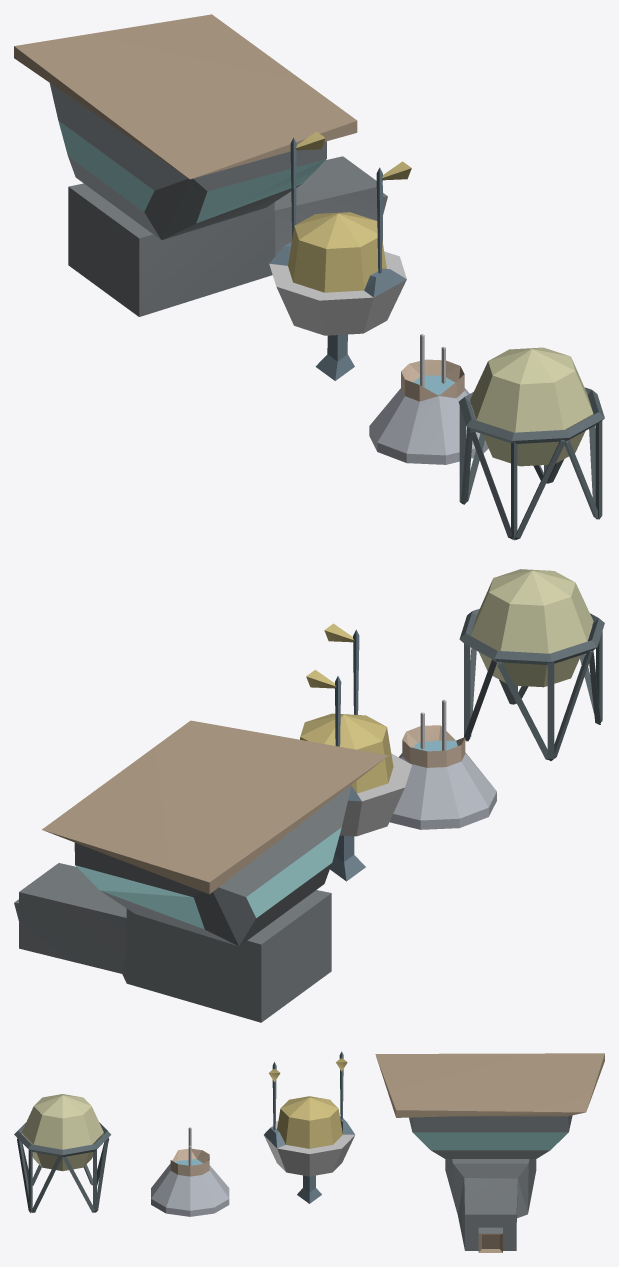
The model's file is station_part.fbx.
3 renders of one model, top to bottom at view 1: azimuth 30°, elevation 25°; view 2: azimuth 150°, elevation 25°; view 3: azimuth 270°, elevation 25°, orthographic. The views are drawn at different scales.
Visible parts, largest first — view 1: station_part_one, station_part_three, station_part_four, station_part_two, station_part_four1, station_part_three2, station_part_three1, plank12, plank5, plank9; view 2: station_part_one, station_part_four, station_part_two, station_part_three, station_part_four1, station_part_three2, plank8, station_part_three1, plank4, plank7; view 3: station_part_one, station_part_three, station_part_four, station_part_two, station_part_four1, plank12, station_part_three1, plank1, station_part_three2, plank6, plank11, plank2.
Part boxes in pixels (left/top/right/bottom): station_part_one: left=14, top=14, right=387, bottom=316; station_part_three: left=269, top=212, right=406, bottom=380; station_part_four: left=470, top=347, right=593, bottom=466; station_part_two: left=369, top=359, right=488, bottom=464; station_part_four1: left=458, top=387, right=604, bottom=443; station_part_three2: left=376, top=161, right=411, bottom=273; station_part_three1: left=290, top=131, right=325, bottom=239; plank12: left=595, top=421, right=602, bottom=519; plank5: left=470, top=430, right=512, bottom=539; plank9: left=515, top=440, right=565, bottom=539; station_part_one: left=14, top=720, right=388, bottom=1022; station_part_four: left=471, top=569, right=593, bottom=687; station_part_two: left=389, top=725, right=496, bottom=829; station_part_three: left=300, top=713, right=411, bottom=881; station_part_four1: left=459, top=609, right=604, bottom=664; station_part_three2: left=324, top=623, right=359, bottom=714; plank8: left=547, top=662, right=554, bottom=760; station_part_three1: left=306, top=669, right=341, bottom=746; plank4: left=554, top=650, right=592, bottom=758; plank7: left=497, top=661, right=548, bottom=759; station_part_one: left=375, top=1053, right=604, bottom=1252; station_part_three: left=264, top=1096, right=355, bottom=1203; station_part_four: left=21, top=1094, right=103, bottom=1171; station_part_two: left=151, top=1148, right=229, bottom=1216; station_part_four1: left=14, top=1122, right=111, bottom=1156; plank12: left=28, top=1150, right=32, bottom=1213; station_part_three1: left=336, top=1051, right=347, bottom=1119; plank1: left=31, top=1156, right=62, bottom=1212; station_part_three2: left=269, top=1062, right=280, bottom=1130; plank6: left=96, top=1137, right=108, bottom=1211; plank11: left=17, top=1138, right=28, bottom=1209; plank2: left=62, top=1156, right=94, bottom=1212.
Size of the model in its own units: 502 by 382 by 1436.
